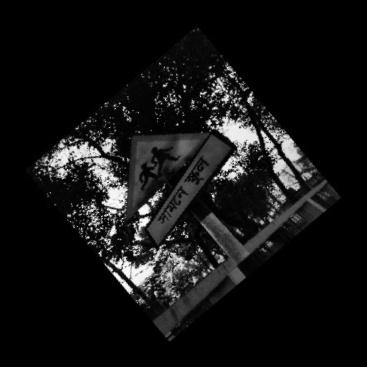School-in-front: (130, 130, 235, 248)
